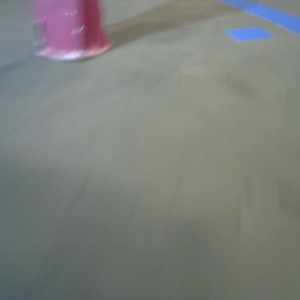middle: (34, 1, 112, 61)
